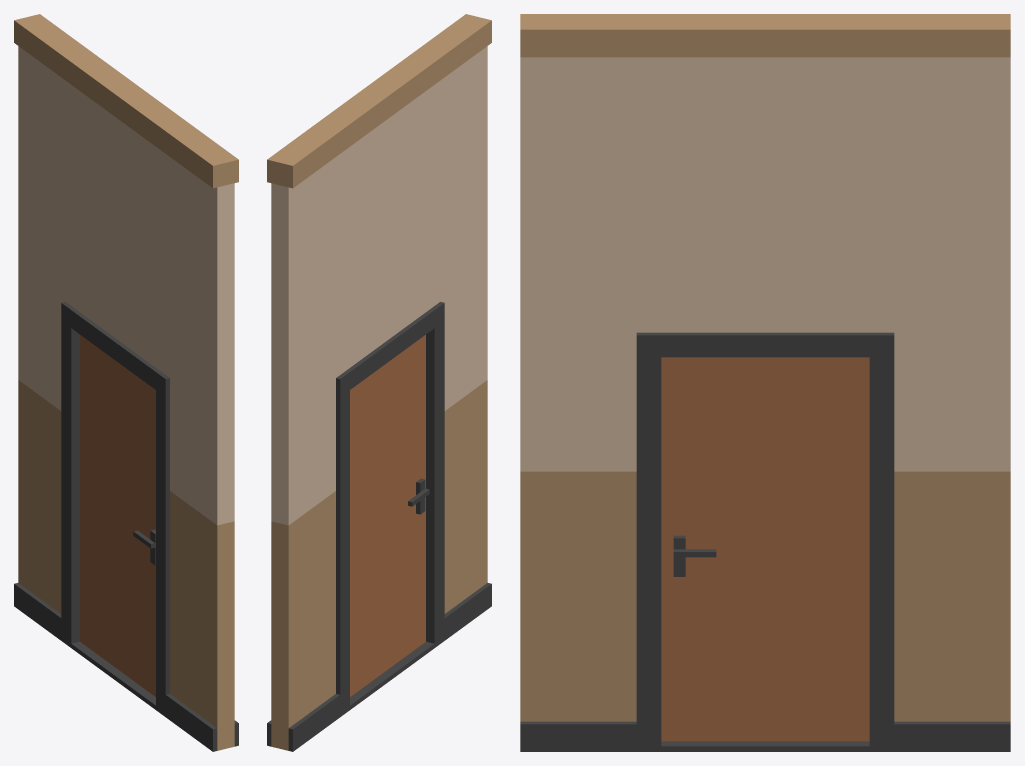
The model's file is wall_02_M_door.glb.
3 views of the same model, side by side, from view 1: azimuth 30°, elevation 25°; view 2: azimuth 150°, elevation 25°; view 3: azimuth 270°, elevation 25° (orthographic). The views are drawn at different scales.
Parts seen in each view (by area): view 1: Untitled, Untitled.001; view 2: Untitled, Untitled.001; view 3: Untitled, Untitled.001.
Boxes of the visible parts, <box> form: Untitled: <box>14,14,238,751</box>; Untitled.001: <box>80,335,155,696</box>; Untitled: <box>267,14,491,751</box>; Untitled.001: <box>350,335,429,696</box>; Untitled: <box>520,14,1010,751</box>; Untitled.001: <box>661,357,869,741</box>.
Size of the model in its own units: 0.18 by 3.9 by 2.4.
Materials: 2 (2 with a texture image).
